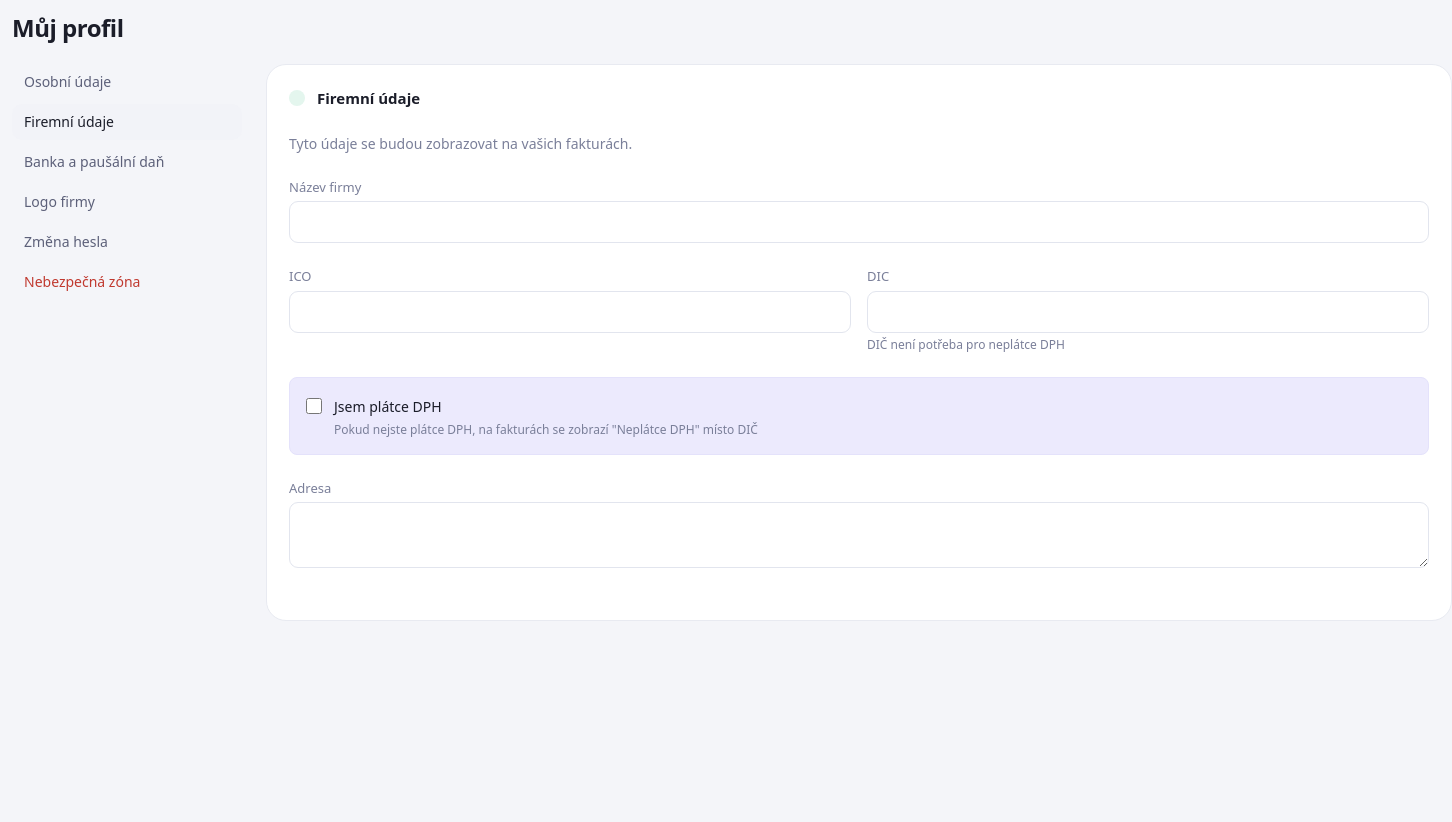
Profile Component › reveals the save bar only once a field changes, and discard restores the saved value
The width and height of the screenshot is (1452, 822).
Check: the button "uložit změny" is not shown
Type "Nová firma" into the field named "companyName" below "Název firmy" at [859, 222], box [289,201,1429,243]
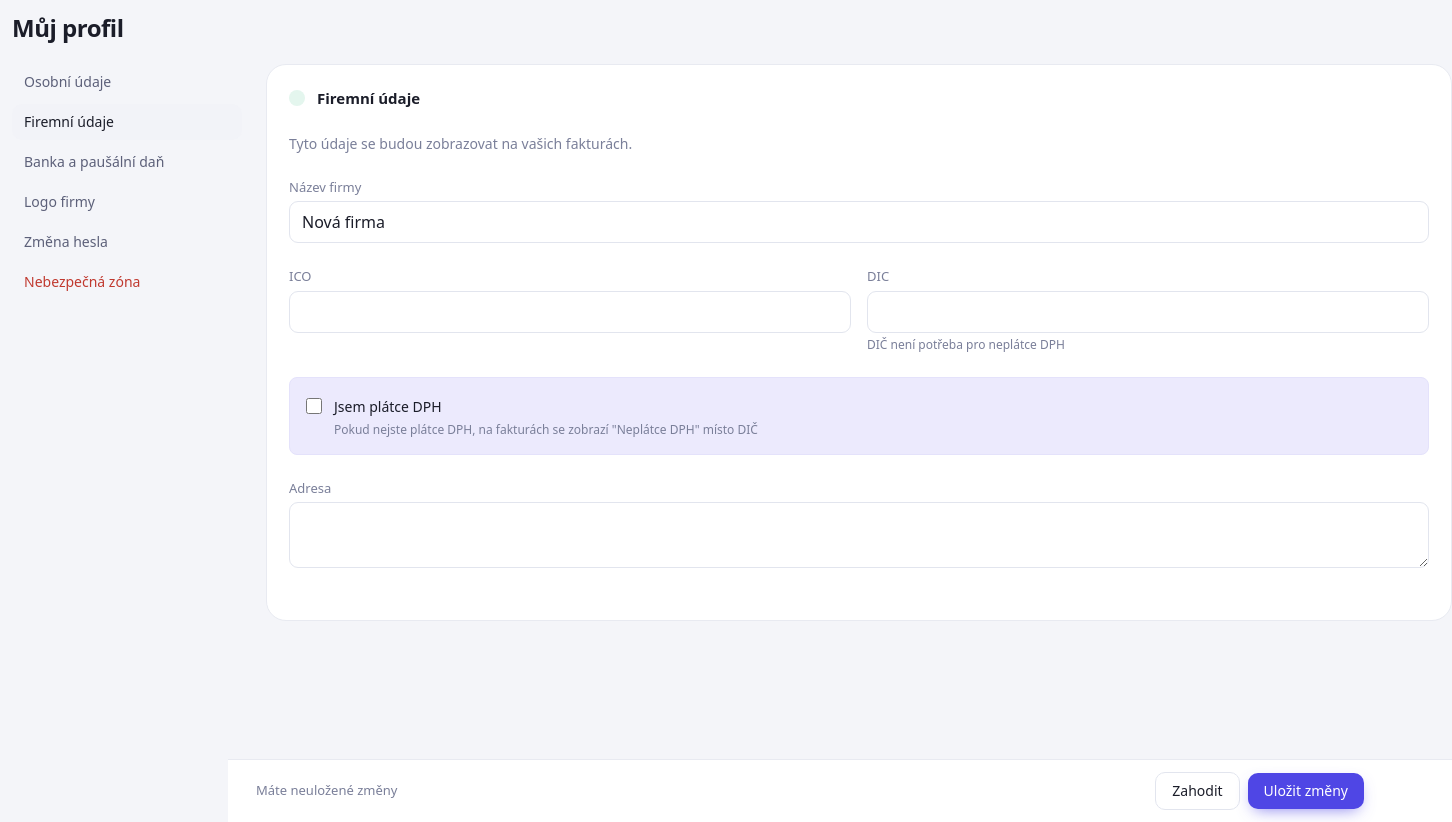
Check: the button "Uložit změny" is shown, box [1248,773,1364,809]
Click the button "Zahodit" at [1197, 791], box [1155,772,1240,810]
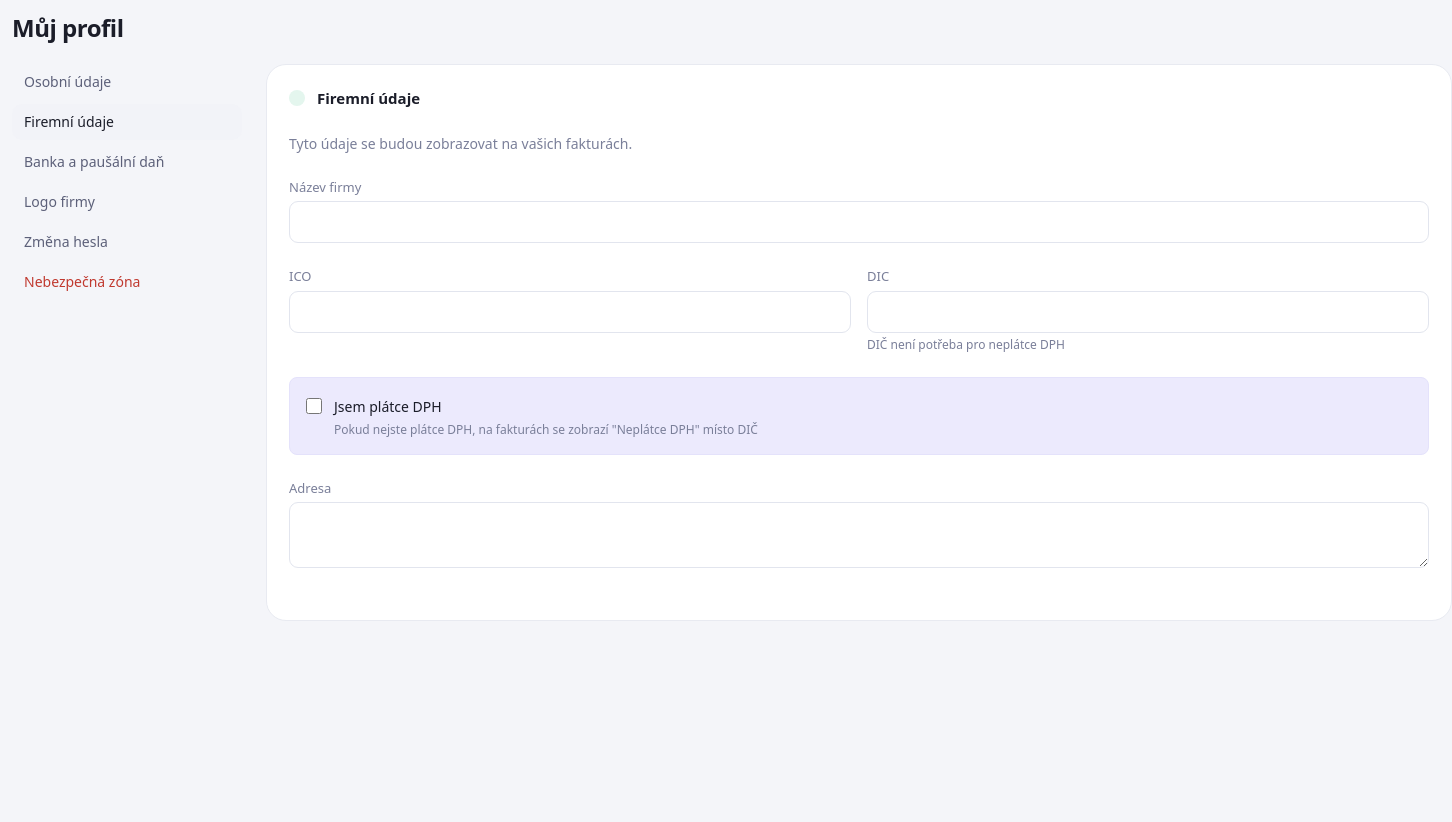
Check: the field named "companyName" below "Název firmy" is empty, box [289,201,1429,243]
Check: the button "Uložit změny" is gone
